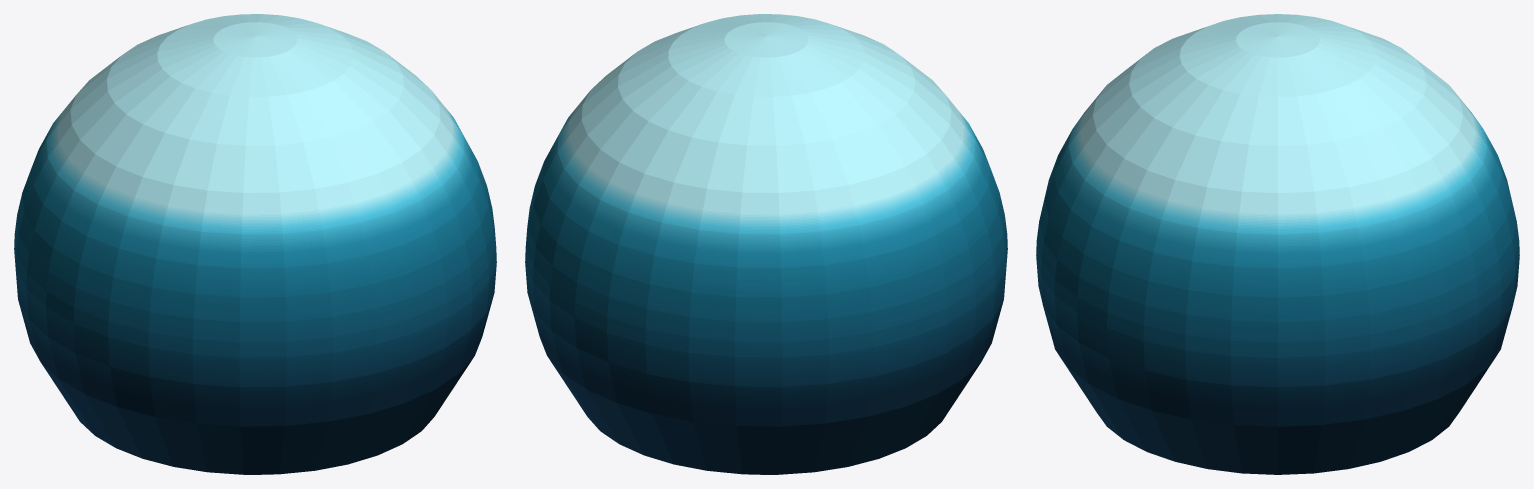
File: ocean.glb
3 renders of one model, left to right at view 1: azimuth 30°, elevation 25°; view 2: azimuth 150°, elevation 25°; view 3: azimuth 270°, elevation 25°, orthographic.
Visible parts, largest first — view 1: sky; view 2: sky; view 3: sky.
Boxes of the visible parts, x1,y1,x2,y2 form: sky: [14, 14, 496, 474]; sky: [525, 14, 1007, 474]; sky: [1036, 14, 1519, 474].
Bounding box in the file's own units: 640 × 640 × 640.
3 materials, 3 textured.
